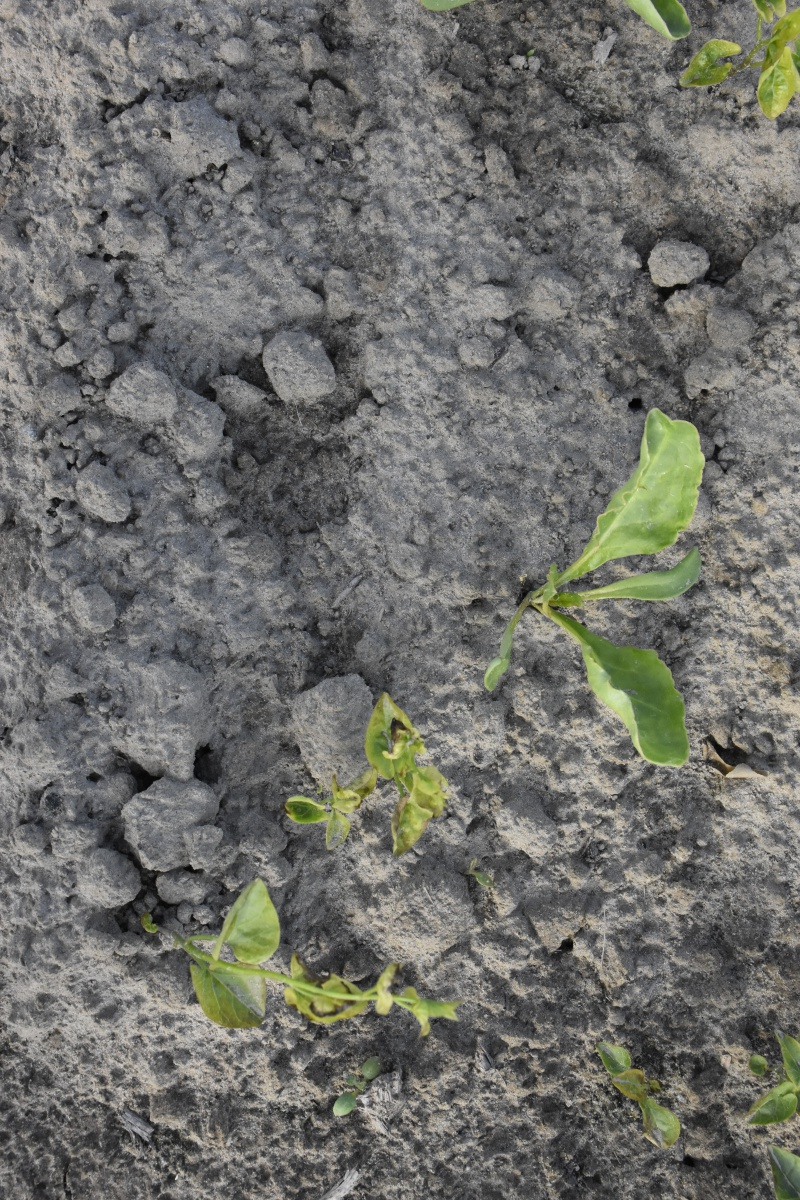field bindweed: (168, 891, 444, 1055), (274, 698, 450, 864), (689, 1, 796, 138), (588, 1044, 684, 1158)
sugar beet: (476, 404, 727, 772)
